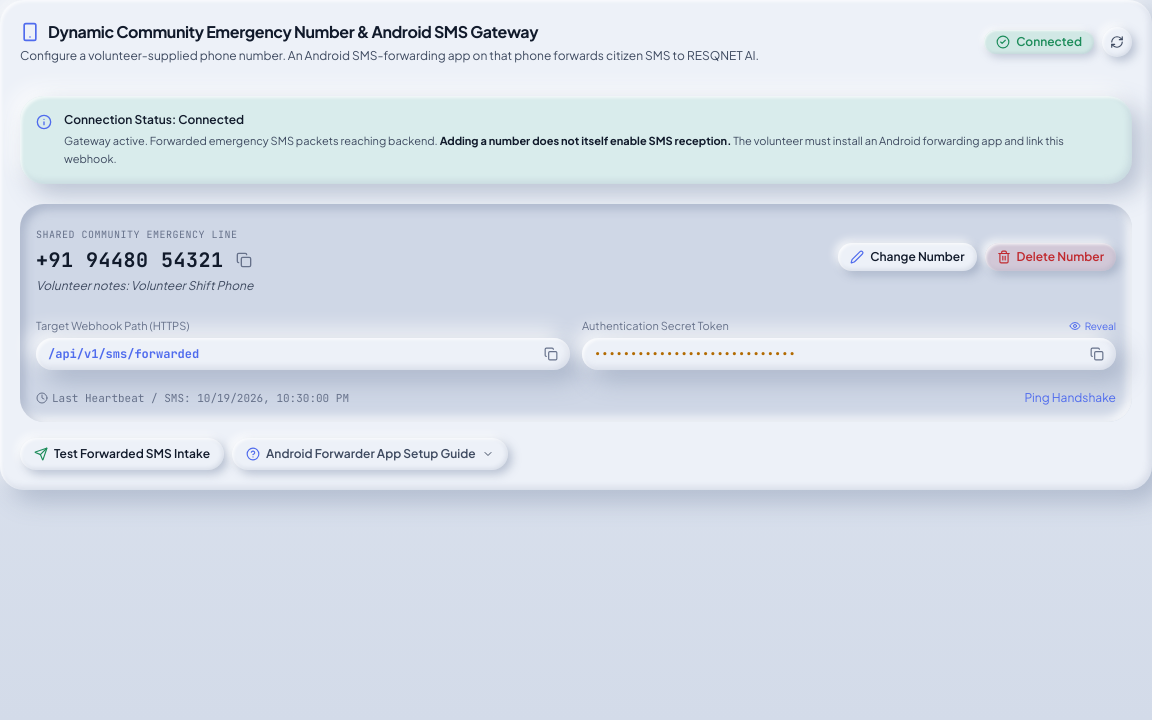
Test: CommunityEmergencyNumberCard Component › renders active number with Change and Delete actions
Expected: the text "+91 94480 54321" is shown, [36, 246, 224, 274]
Expected: the element with test id "community-number-status-badge" reads "Connected", [1016, 34, 1082, 49]
// Clicking Delete Number opens confirmation modal
Click the button "Delete Number" at coordinates (1050, 257), box [985, 243, 1116, 271]
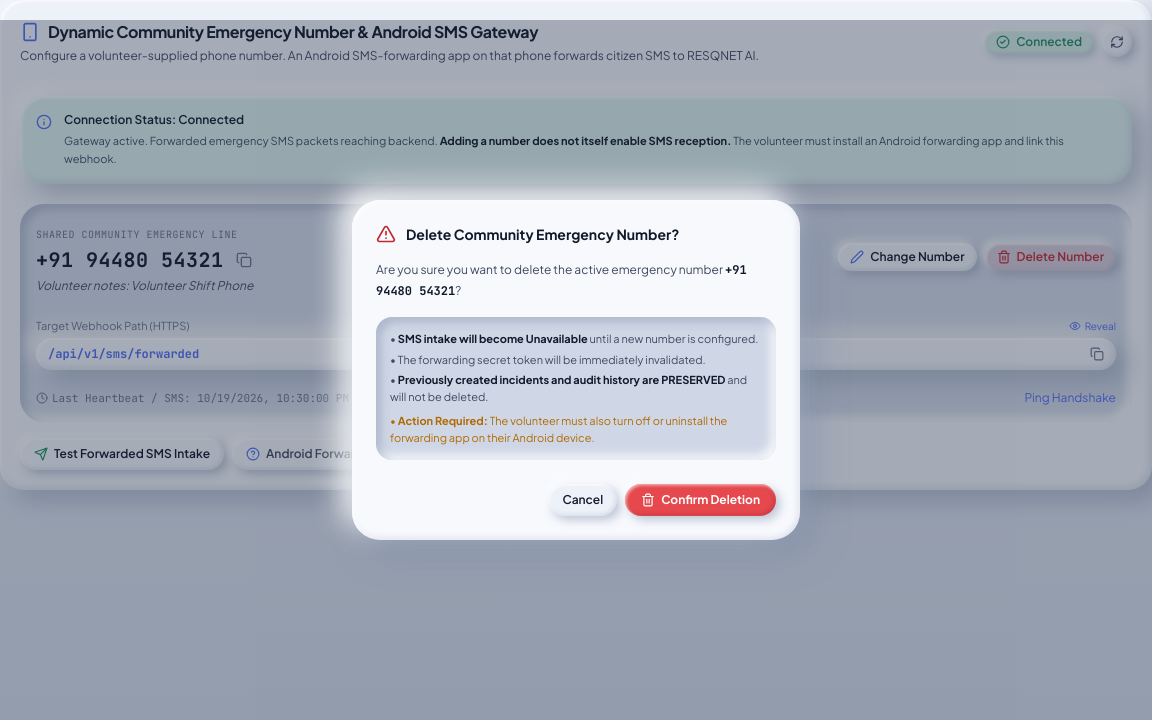
Result: the heading "Delete Community Emergency Number?" is shown at [406, 224, 679, 244]
Result: the text "Previously created incidents and audit history are PRESERVED" is shown at [398, 373, 725, 386]
Result: the text "volunteer must also turn off or uninstall" is shown at [390, 414, 727, 444]
